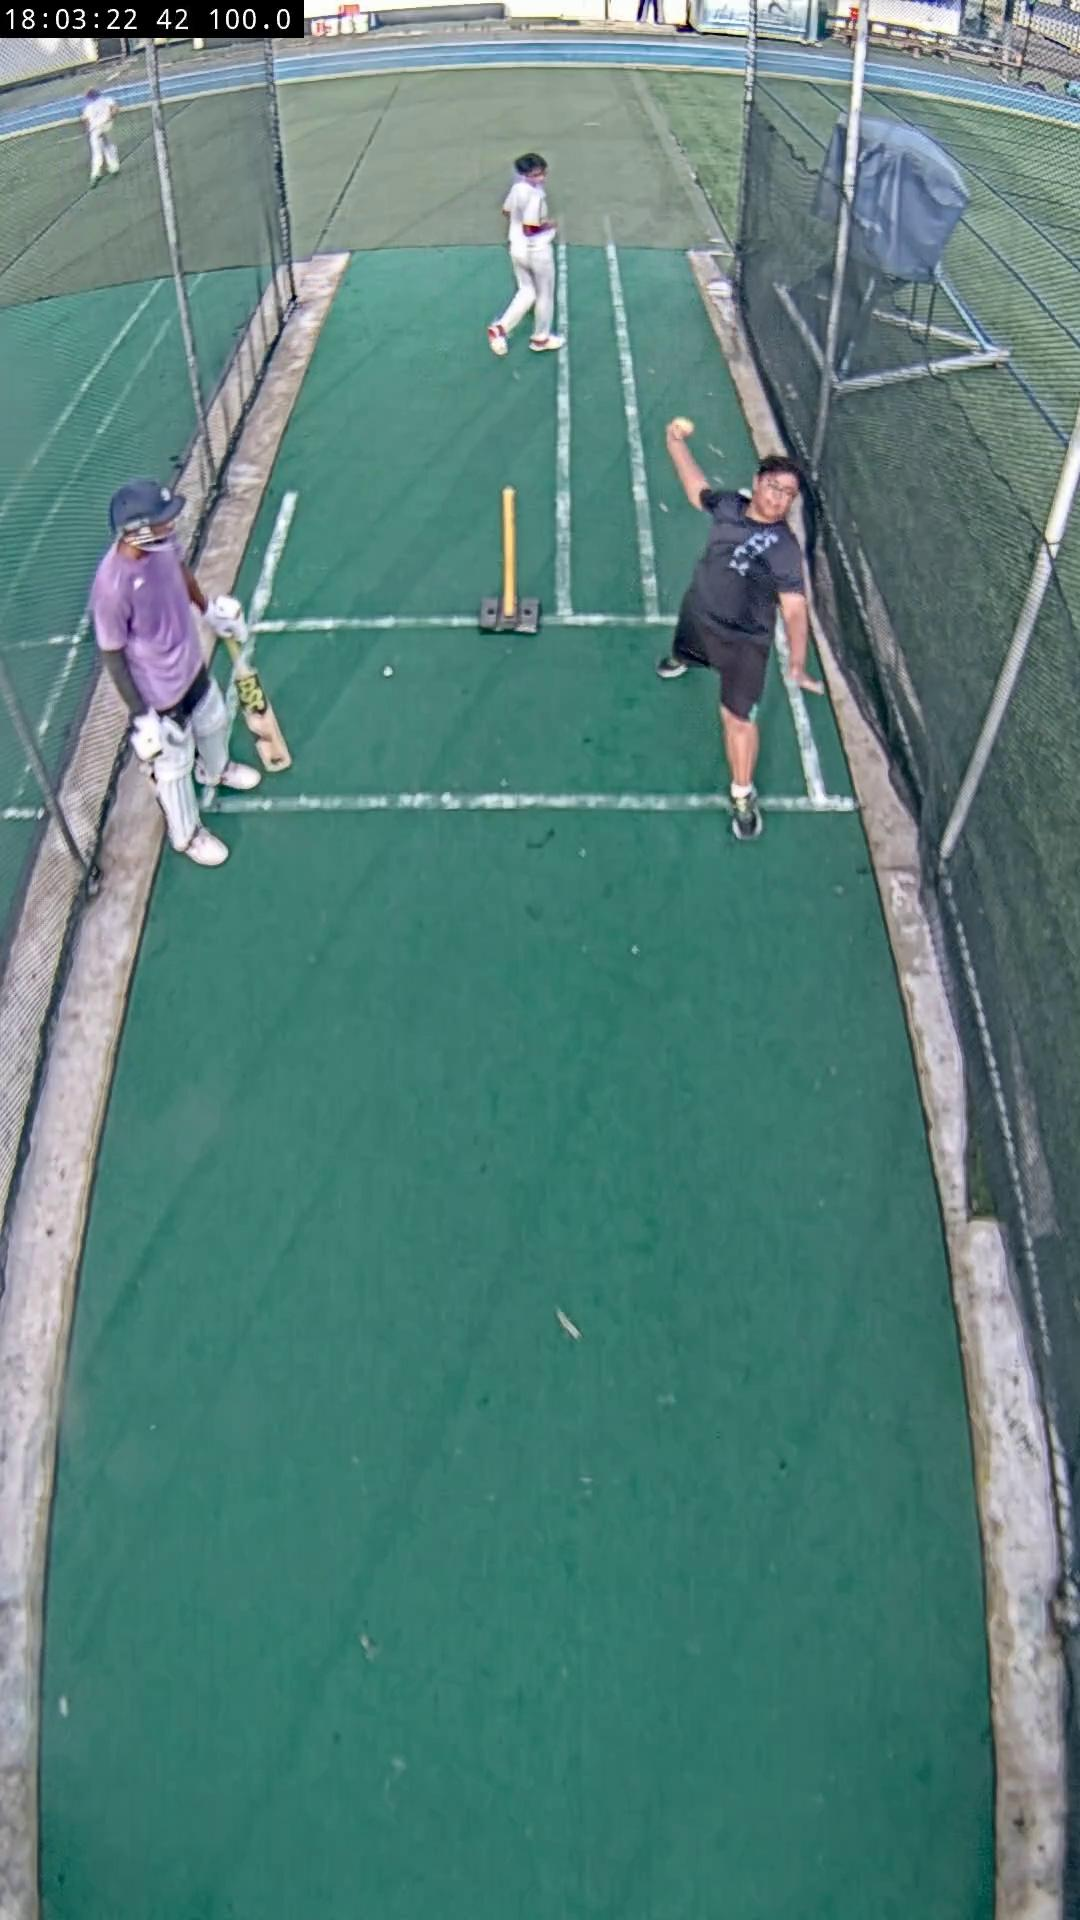ball: (671, 417, 694, 439)
stumps: (476, 488, 541, 634)
